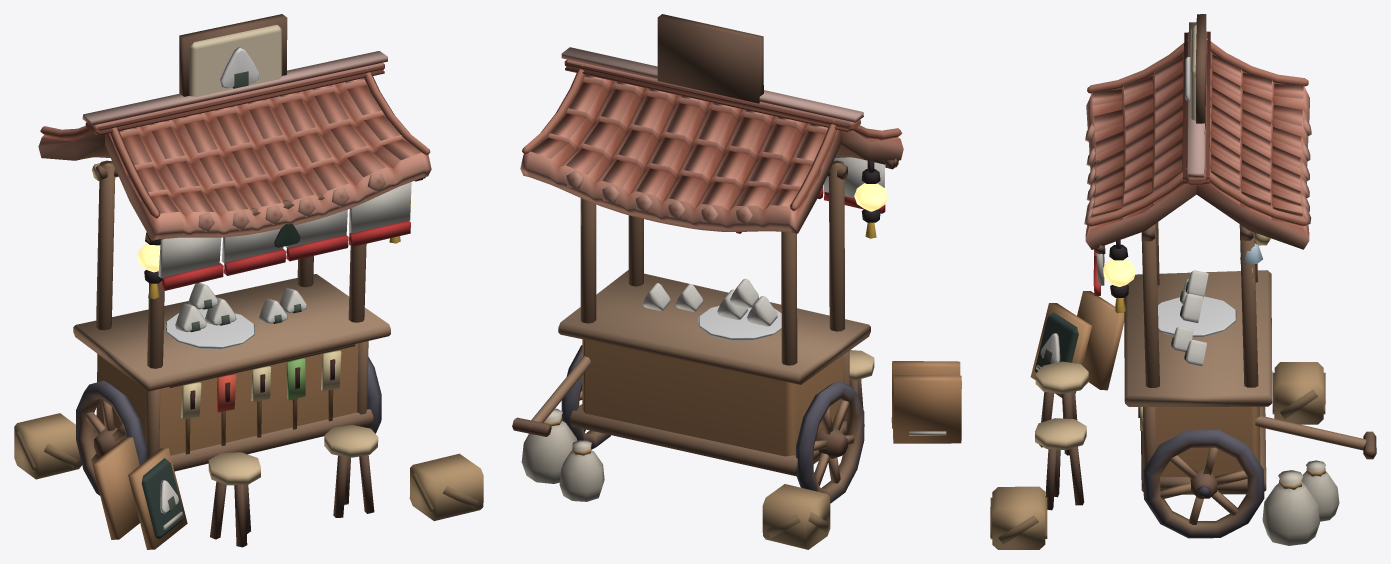
File: shop-1-v4.glb
3 views of the same model, side by side, from view 1: azimuth 30°, elevation 25°; view 2: azimuth 150°, elevation 25°; view 3: azimuth 270°, elevation 25° (orthographic).
Parts seen in each view (by area): view 1: shop-1-v4; view 2: shop-1-v4, window_glow; view 3: shop-1-v4, window_glow.
Boxes of the visible parts, bbox=[...] form: shop-1-v4: bbox=[14, 14, 483, 549]; shop-1-v4: bbox=[512, 14, 961, 549]; window_glow: bbox=[854, 183, 887, 211]; shop-1-v4: bbox=[990, 14, 1376, 549]; window_glow: bbox=[1103, 258, 1135, 286].
Bounding box in the file's own units: 2.09 × 2.59 × 2.04.
